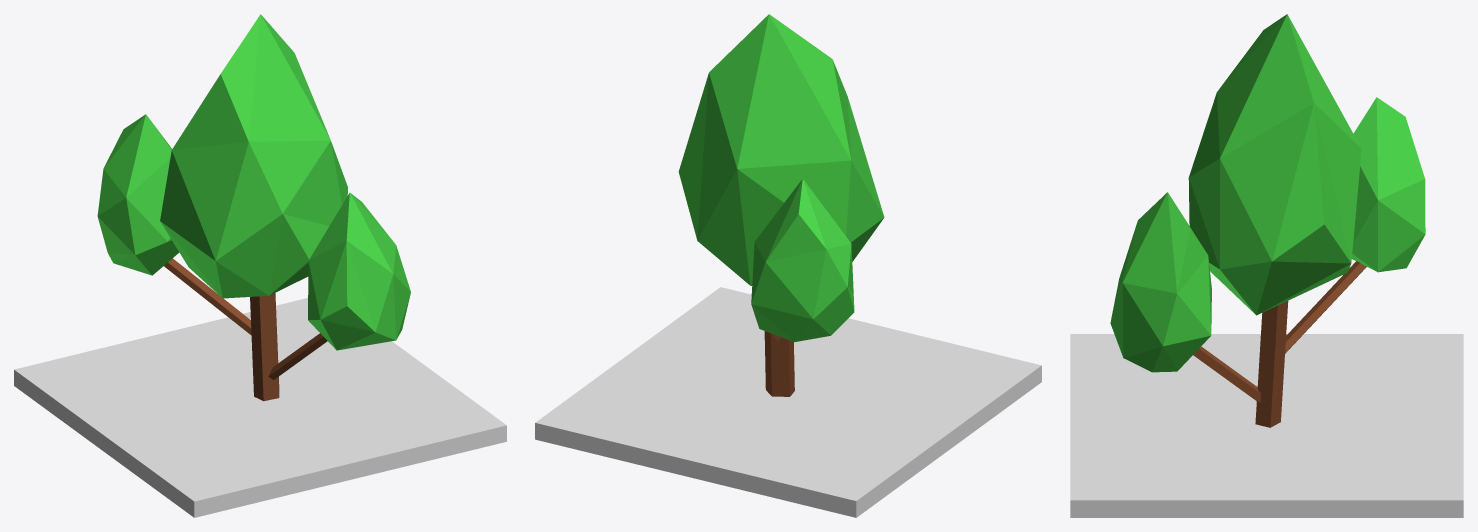
Rendered from Wood_4 08.FBX.
3 views of the same model, side by side, from view 1: azimuth 30°, elevation 25°; view 2: azimuth 150°, elevation 25°; view 3: azimuth 270°, elevation 25° (orthographic). The views are drawn at different scales.
Parts seen in each view (by area): view 1: GeoSphere001, Box005; view 2: Box005, GeoSphere001; view 3: Box005, GeoSphere001.
Boxes of the visible parts, <box> form: GeoSphere001: <box>97,14,410,401</box>; Box005: <box>14,298,506,517</box>; Box005: <box>535,287,1041,517</box>; GeoSphere001: <box>678,14,884,396</box>; Box005: <box>1070,334,1463,517</box>; GeoSphere001: <box>1110,14,1425,427</box>.
Size of the model in its own units: 1 by 1.19 by 1.
2 materials, 2 textured.
